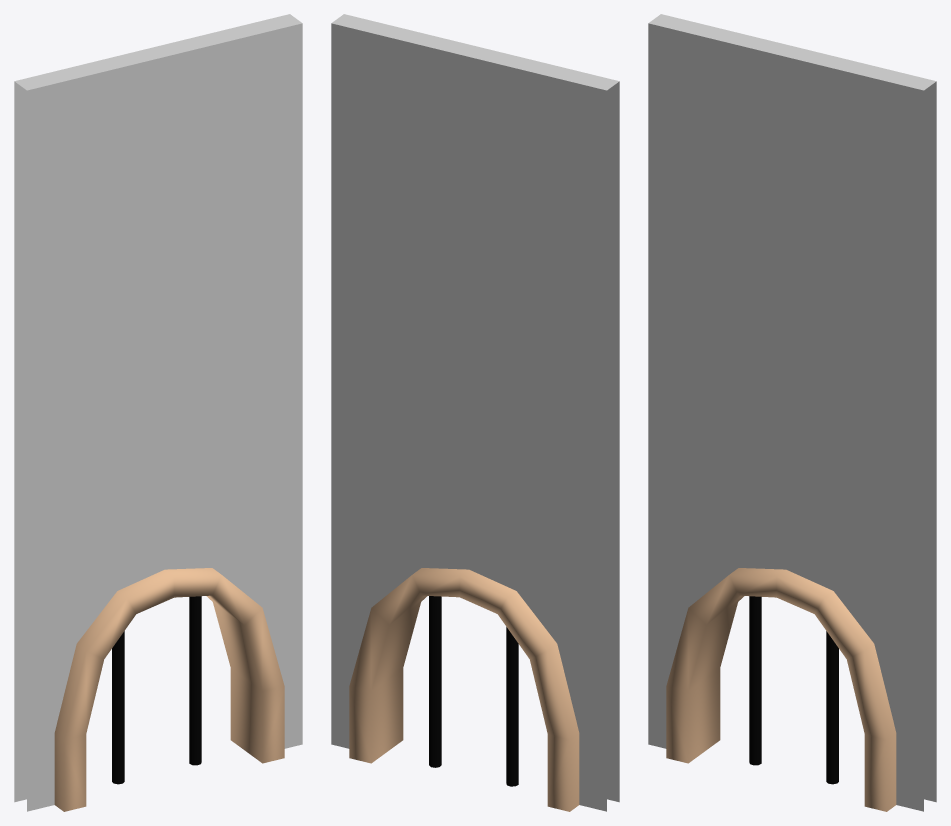
The model's file is wall_sewer_entrance.glb.
3 views of the same model, side by side, from view 1: azimuth 30°, elevation 25°; view 2: azimuth 150°, elevation 25°; view 3: azimuth 330°, elevation 25° (orthographic).
Visible parts, largest first — view 1: WallWithVent; view 2: WallWithVent; view 3: WallWithVent.
Part boxes in pixels (x1,y1,x2,y2): WallWithVent: [14, 14, 302, 811]; WallWithVent: [331, 14, 619, 811]; WallWithVent: [648, 14, 936, 811].
Bounding box in the file's own units: 1 × 2.5 × 0.2.
